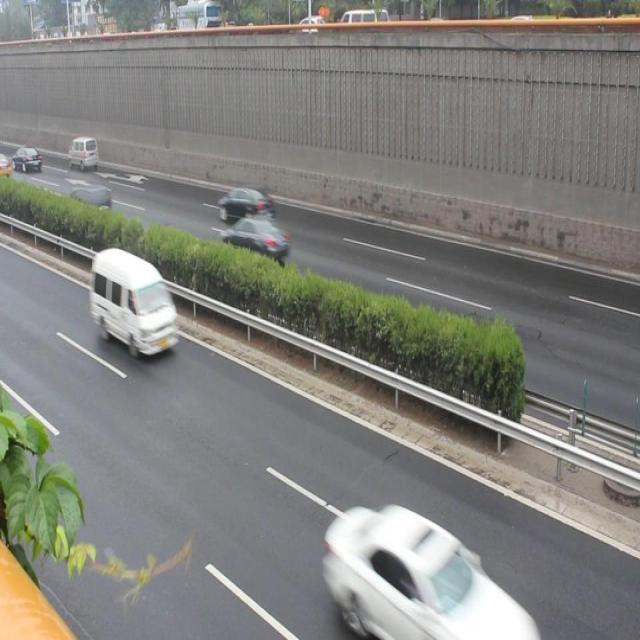car: (317, 486, 535, 640), (224, 210, 291, 268), (209, 176, 276, 228), (68, 177, 115, 222)
truck: (84, 242, 185, 364)
